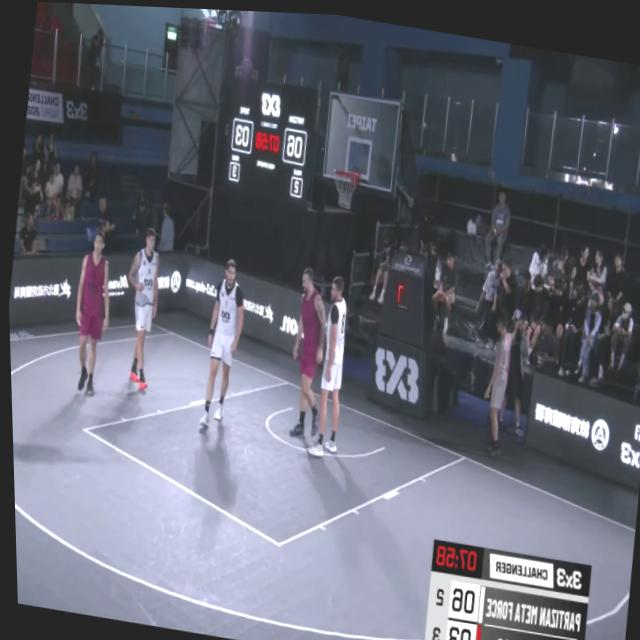hoop: (328, 162, 361, 210)
player: (190, 251, 252, 432), (61, 226, 119, 399), (278, 259, 333, 439), (303, 268, 354, 460), (112, 221, 167, 392)
